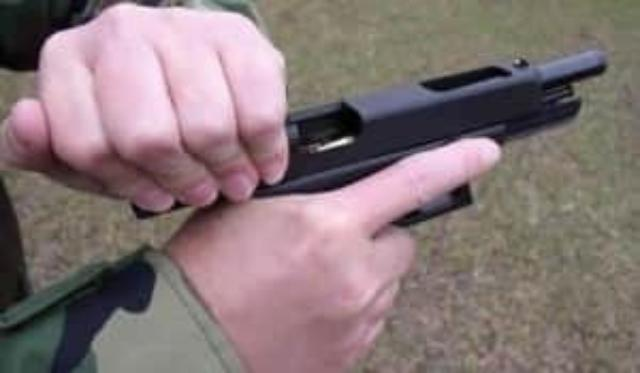handgun: (120, 42, 616, 254)
